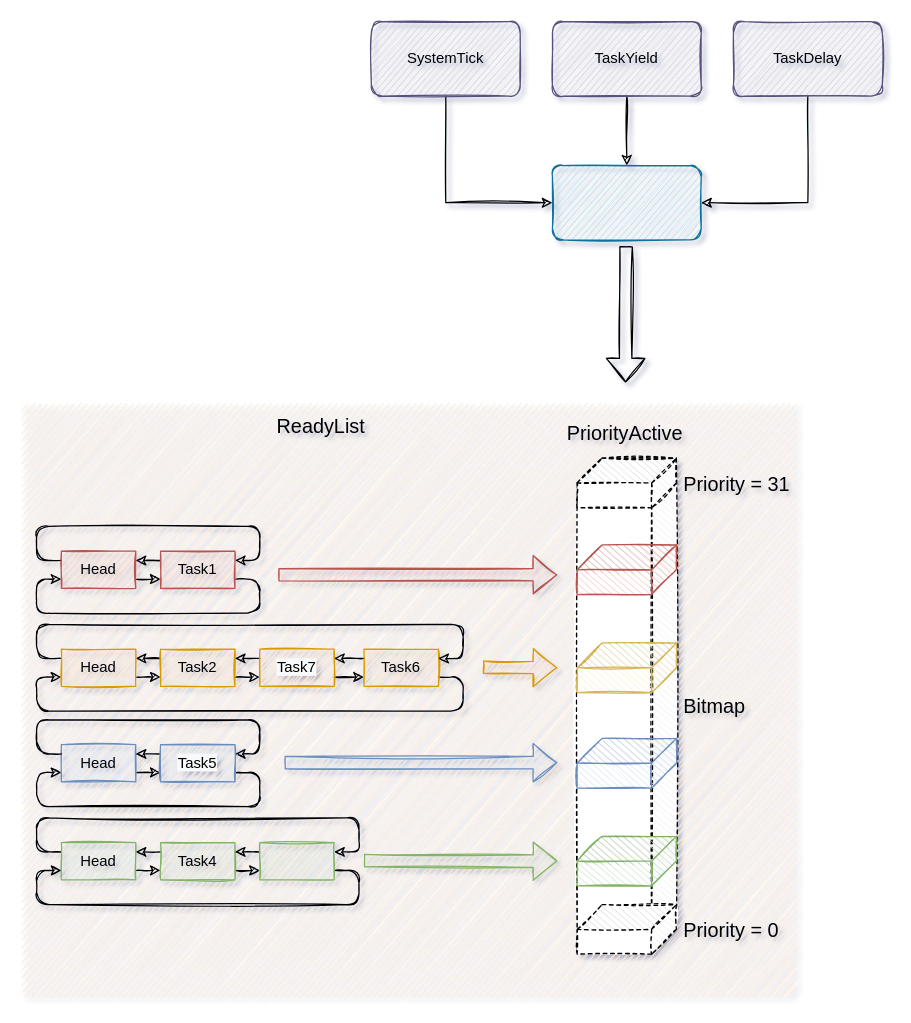
The diagram is 911 pixels wide and 1023 high, and some of its shapes have lost their labels. Here are the shapes that lost their labels. From the top down, the box of each, then its label:
(551, 164, 701, 240): OS_Schedule
(259, 841, 334, 880): Task3
